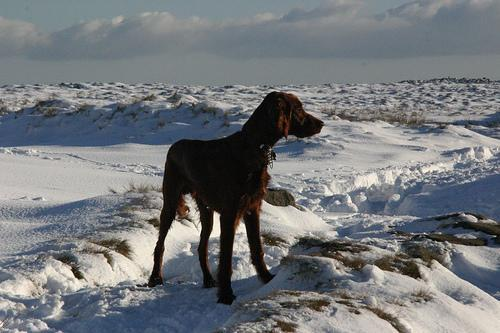Irish_setter: (147, 89, 328, 305)
